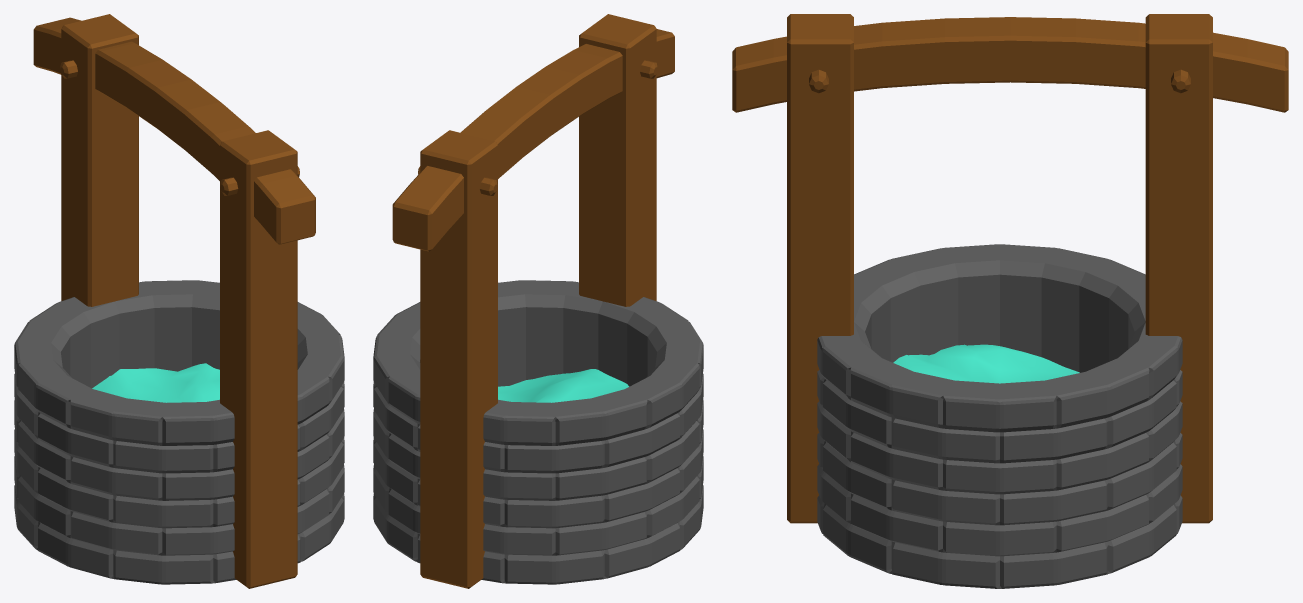
Rendered from Pozo.fbx.
3 views of the same model, side by side, from view 1: azimuth 30°, elevation 25°; view 2: azimuth 150°, elevation 25°; view 3: azimuth 270°, elevation 25° (orthographic). The views are drawn at different scales.
Parts seen in each view (by area): view 1: Cylinder.001; view 2: Cylinder.001; view 3: Cylinder.001.
Part boxes in pixels (left/top/right/bottom): Cylinder.001: left=14, top=14, right=344, bottom=588; Cylinder.001: left=373, top=14, right=703, bottom=588; Cylinder.001: left=732, top=14, right=1288, bottom=588.
Bounding box in the file's own units: 301 × 430 × 447.
